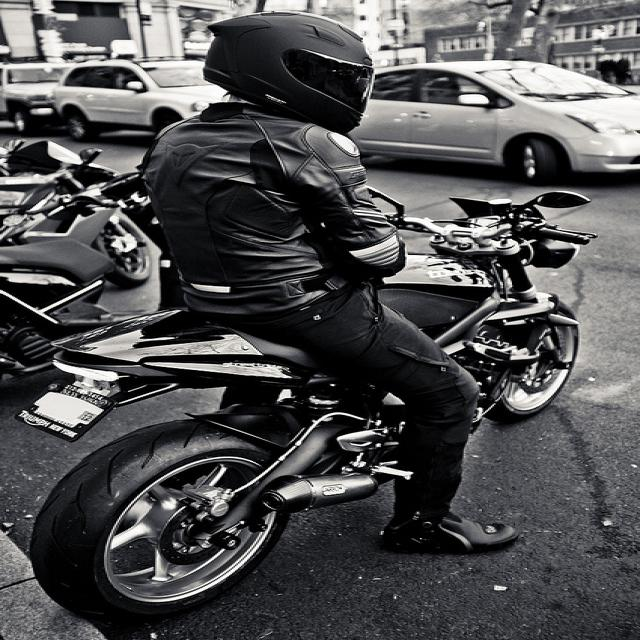motor: (43, 186, 615, 582), (0, 170, 176, 377), (0, 141, 156, 290)
